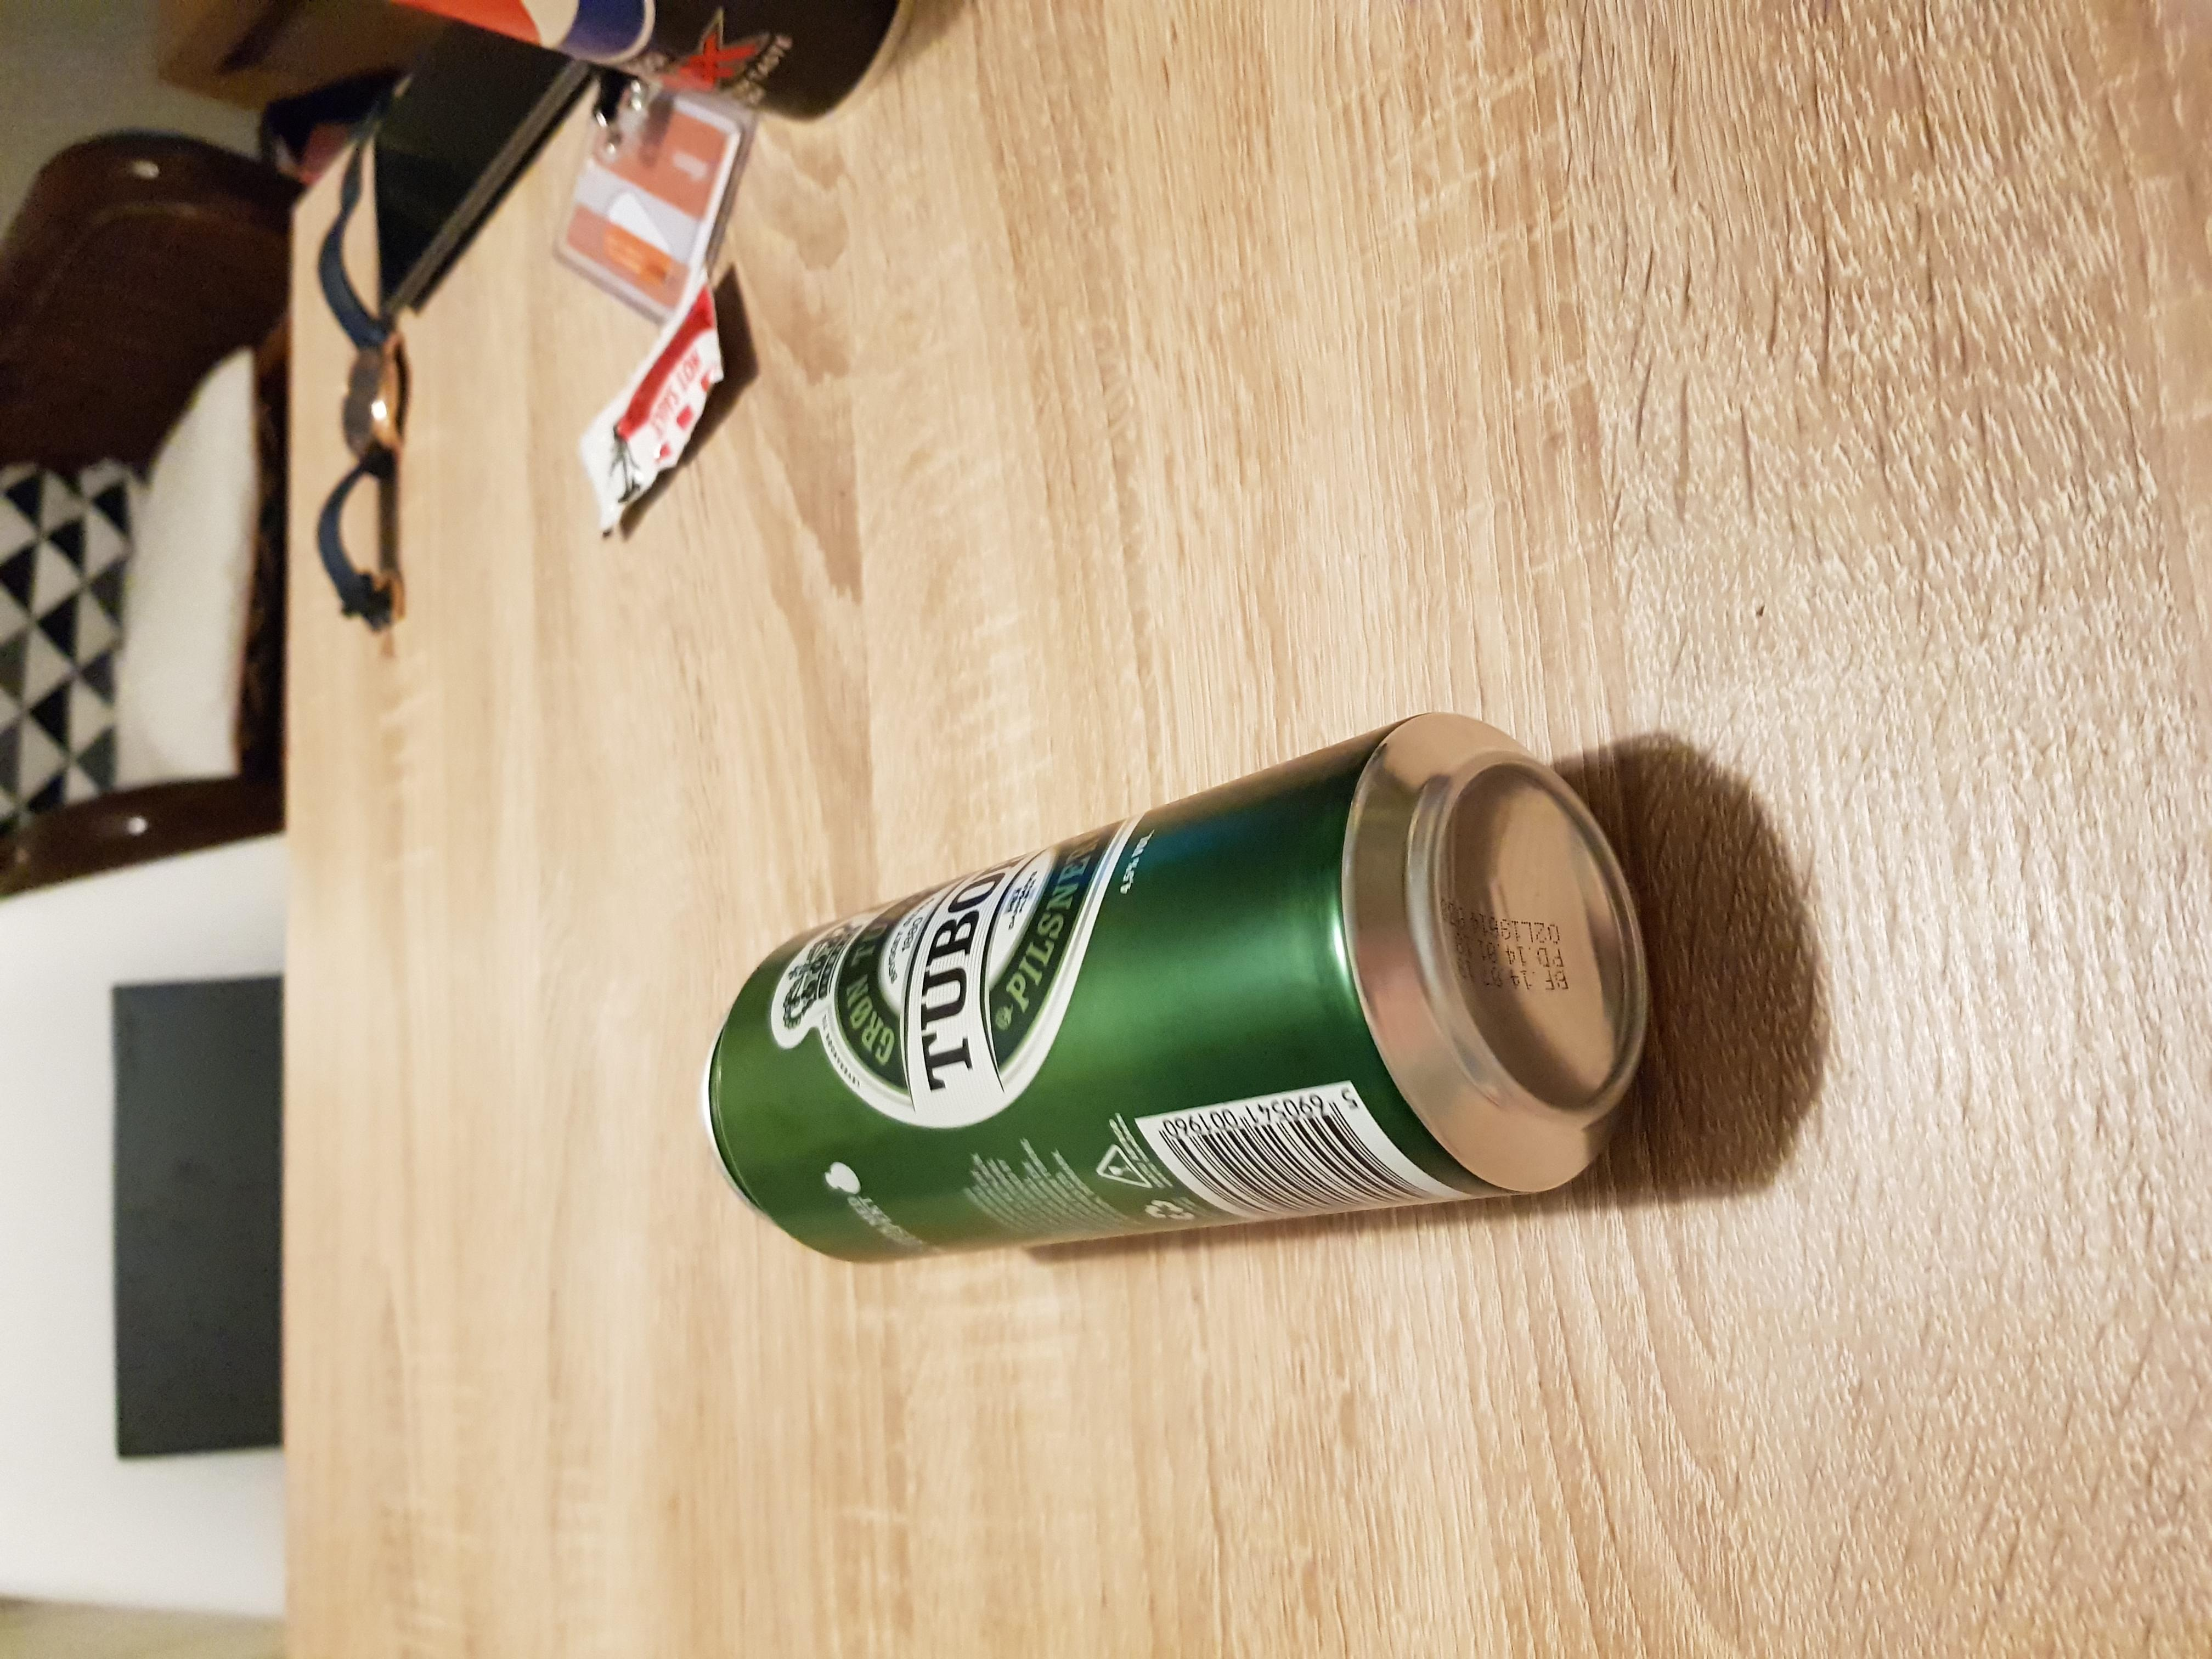Can: (704, 709, 1656, 1269)
